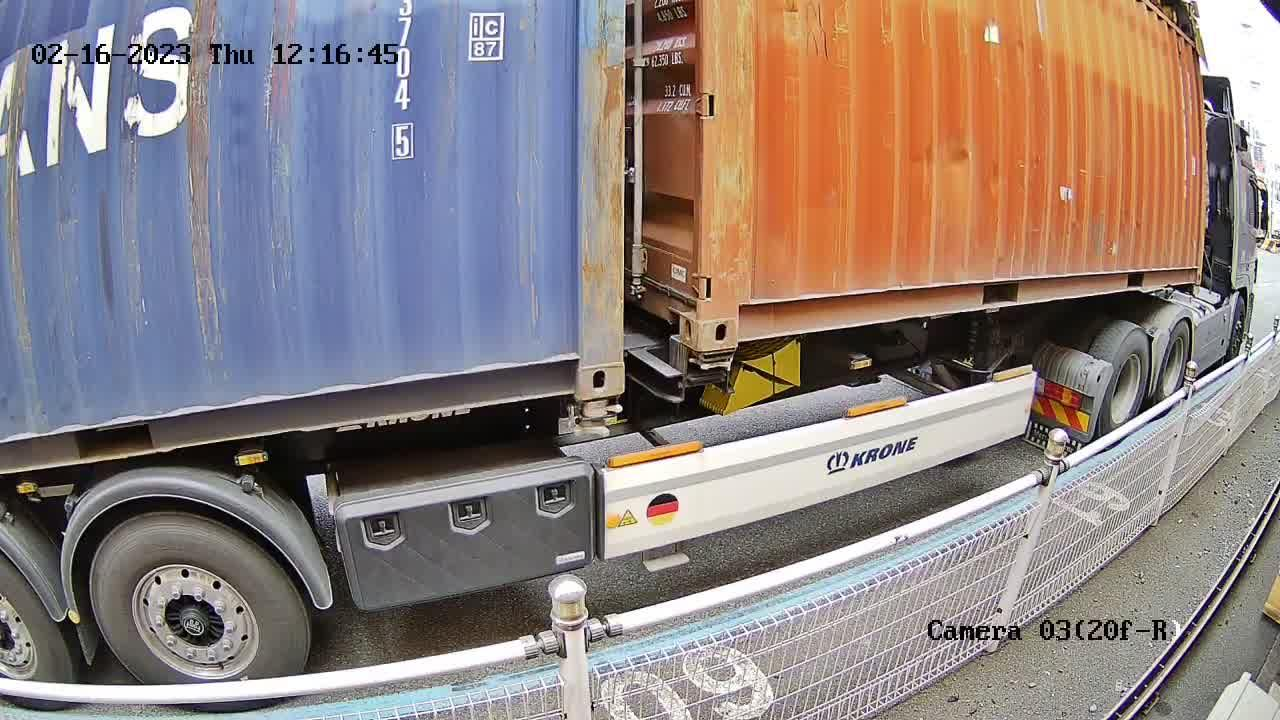Cone: (570, 399, 618, 439), (693, 350, 736, 376)
Hole_L: (699, 271, 780, 352)
Hole_R: (530, 318, 624, 399), (654, 252, 701, 353)
Tire: (93, 517, 303, 683), (3, 560, 70, 680), (1101, 330, 1148, 430), (1157, 320, 1190, 396)
